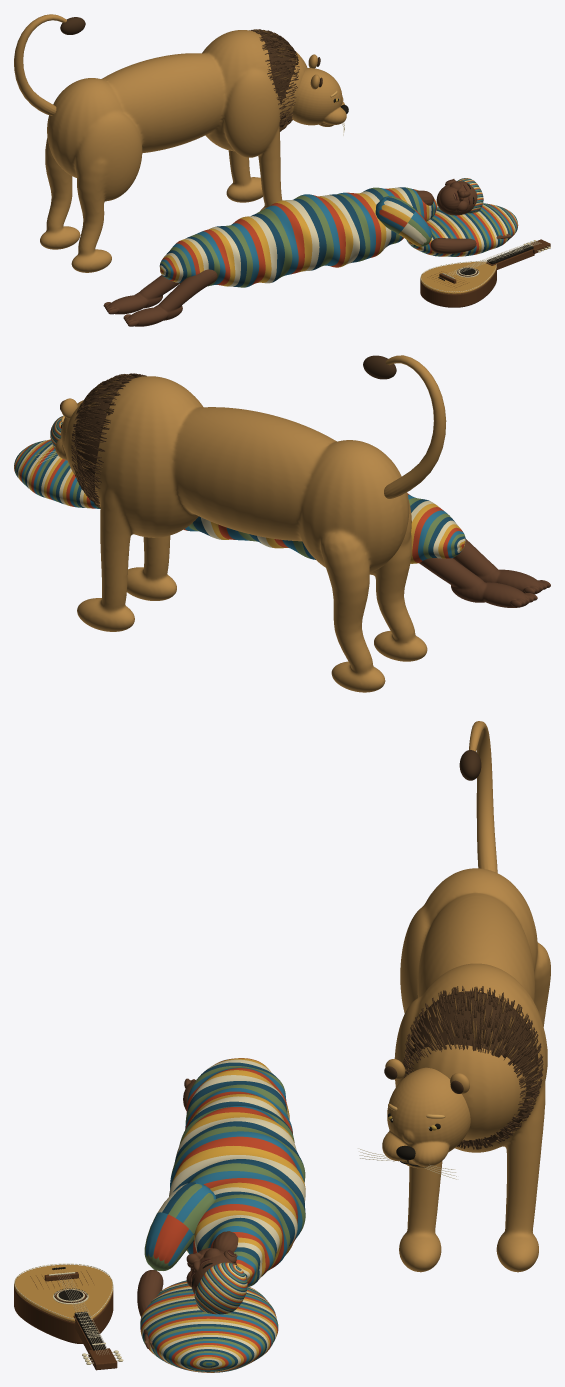
The model's file is sleeping-gypsy-three-models.glb.
3 renders of one model, top to bottom at view 1: azimuth 30°, elevation 25°; view 2: azimuth 150°, elevation 25°; view 3: azimuth 270°, elevation 25°, orthographic. The views are drawn at different scales.
Parts seen in each view (by area): view 1: Lion detailed mesh, Sleeping person detailed mesh, Stringed instrument detailed mesh; view 2: Lion detailed mesh, Sleeping person detailed mesh; view 3: Lion detailed mesh, Sleeping person detailed mesh, Stringed instrument detailed mesh.
Part boxes in pixels (x1=…): Lion detailed mesh: x1=14, y1=14, x2=348, y2=272; Sleeping person detailed mesh: x1=103, y1=178, x2=518, y2=326; Stringed instrument detailed mesh: x1=420, y1=239, x2=550, y2=307; Lion detailed mesh: x1=35, y1=355, x2=446, y2=692; Sleeping person detailed mesh: x1=14, y1=416, x2=550, y2=607; Lion detailed mesh: x1=358, y1=721, x2=550, y2=1272; Sleeping person detailed mesh: x1=137, y1=1058, x2=305, y2=1372; Stringed instrument detailed mesh: x1=14, y1=1263, x2=123, y2=1370.
Bounding box in the file's own units: 2.54 × 1.47 × 1.87.
